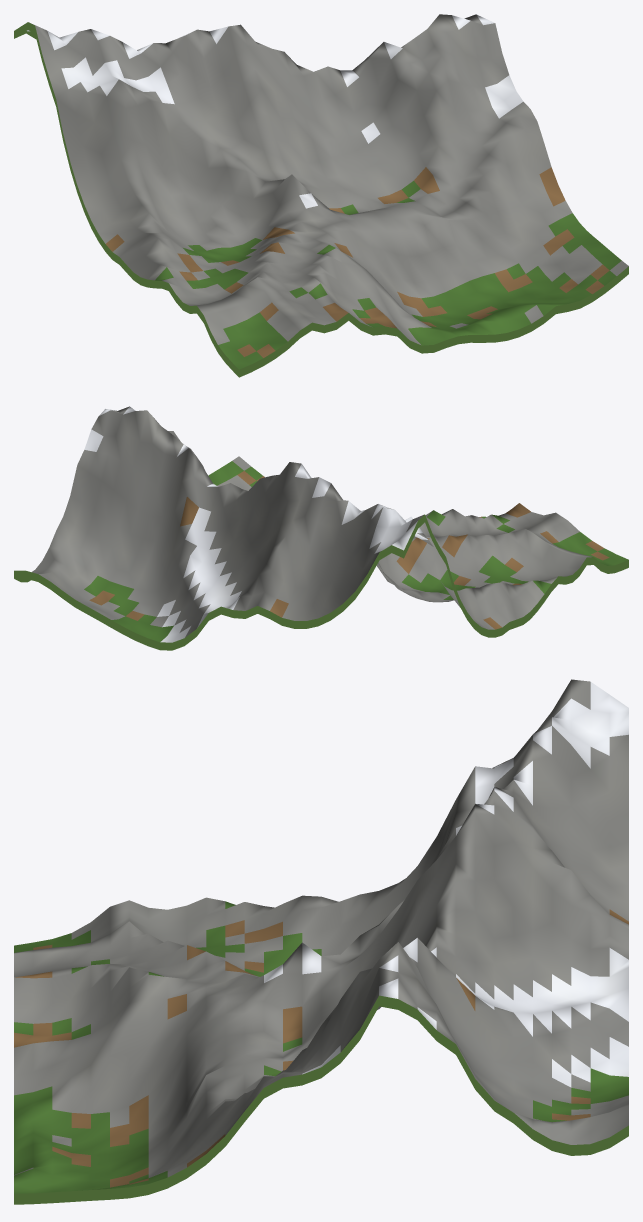
File: chunk_3_0_lod1.glb
3 views of the same model, one above another, from view 1: azimuth 30°, elevation 25°; view 2: azimuth 150°, elevation 25°; view 3: azimuth 270°, elevation 25° (orthographic). The views are drawn at different scales.
Parts seen in each view (by area): view 1: Surface_Gravel, Surface_Grass, Surface_Dirt, Skirt, Surface_Snow; view 2: Surface_Gravel, Surface_Snow, Skirt, Surface_Grass, Surface_Dirt; view 3: Surface_Gravel, Surface_Grass, Surface_Snow, Skirt, Surface_Dirt.
Part boxes in pixels (x1,y1,x2,y2): Surface_Gravel: [29, 14, 628, 344]; Surface_Grass: [155, 180, 621, 369]; Surface_Dirt: [106, 167, 609, 357]; Skirt: [14, 22, 628, 377]; Surface_Snow: [27, 14, 523, 208]; Surface_Gravel: [31, 406, 592, 637]; Surface_Snow: [84, 406, 428, 642]; Skirt: [14, 514, 628, 650]; Surface_Grass: [84, 461, 628, 641]; Surface_Dirt: [89, 471, 609, 629]; Surface_Gravel: [14, 679, 628, 1177]; Surface_Grass: [14, 901, 628, 1193]; Surface_Snow: [264, 682, 628, 1087]; Skirt: [14, 995, 628, 1204]; Surface_Dirt: [14, 909, 628, 1187].
Bounding box in the file's own units: 256 × 145 × 256.
